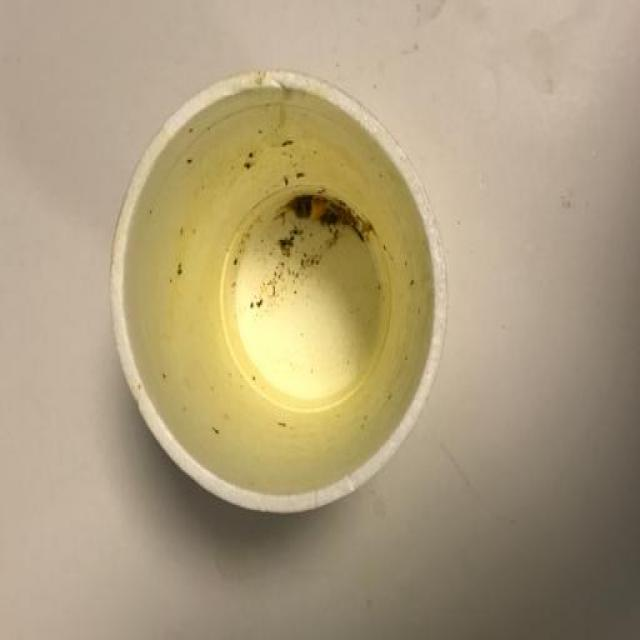plastic: (100, 52, 459, 525)
